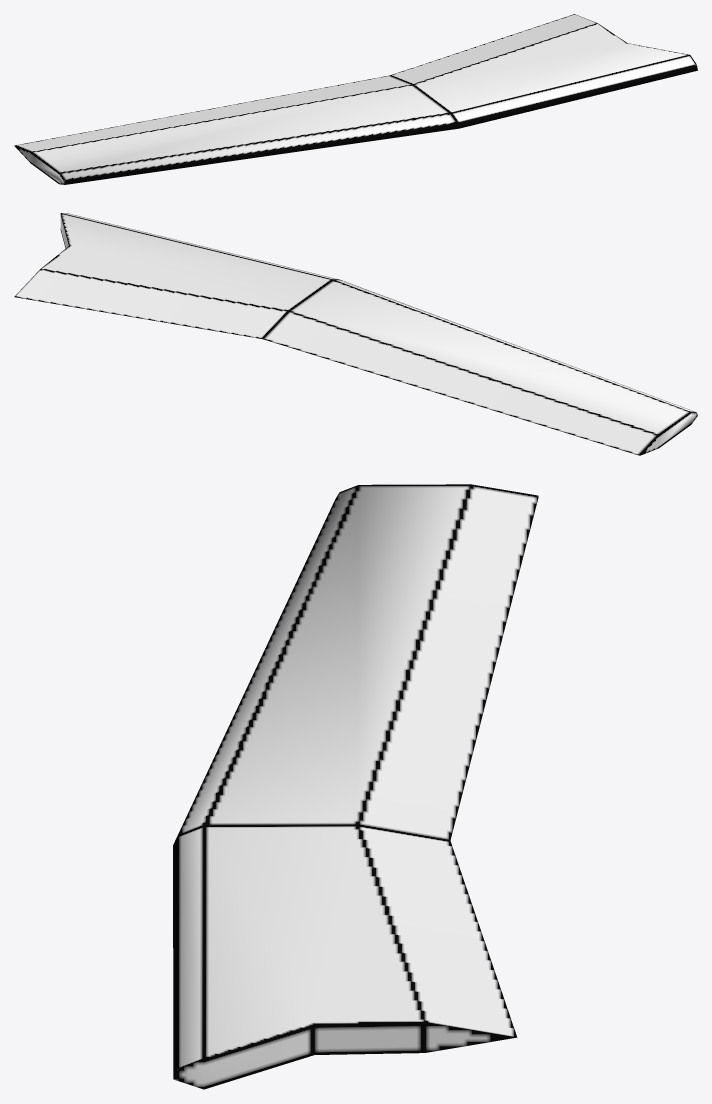
Rendered from flügelmit.obj.
3 renders of one model, top to bottom at view 1: azimuth 30°, elevation 25°; view 2: azimuth 150°, elevation 25°; view 3: azimuth 270°, elevation 25°, orthographic. The views are drawn at different scales.
Visible parts, largest first — view 1: cube1; view 2: cube1; view 3: cube1.
Boxes of the visible parts, x1,y1,x2,y2 form: cube1: [14, 14, 697, 184]; cube1: [14, 213, 697, 455]; cube1: [173, 484, 538, 1089].
Size of the model in its own units: 18.47 by 0.4626 by 4.94.
